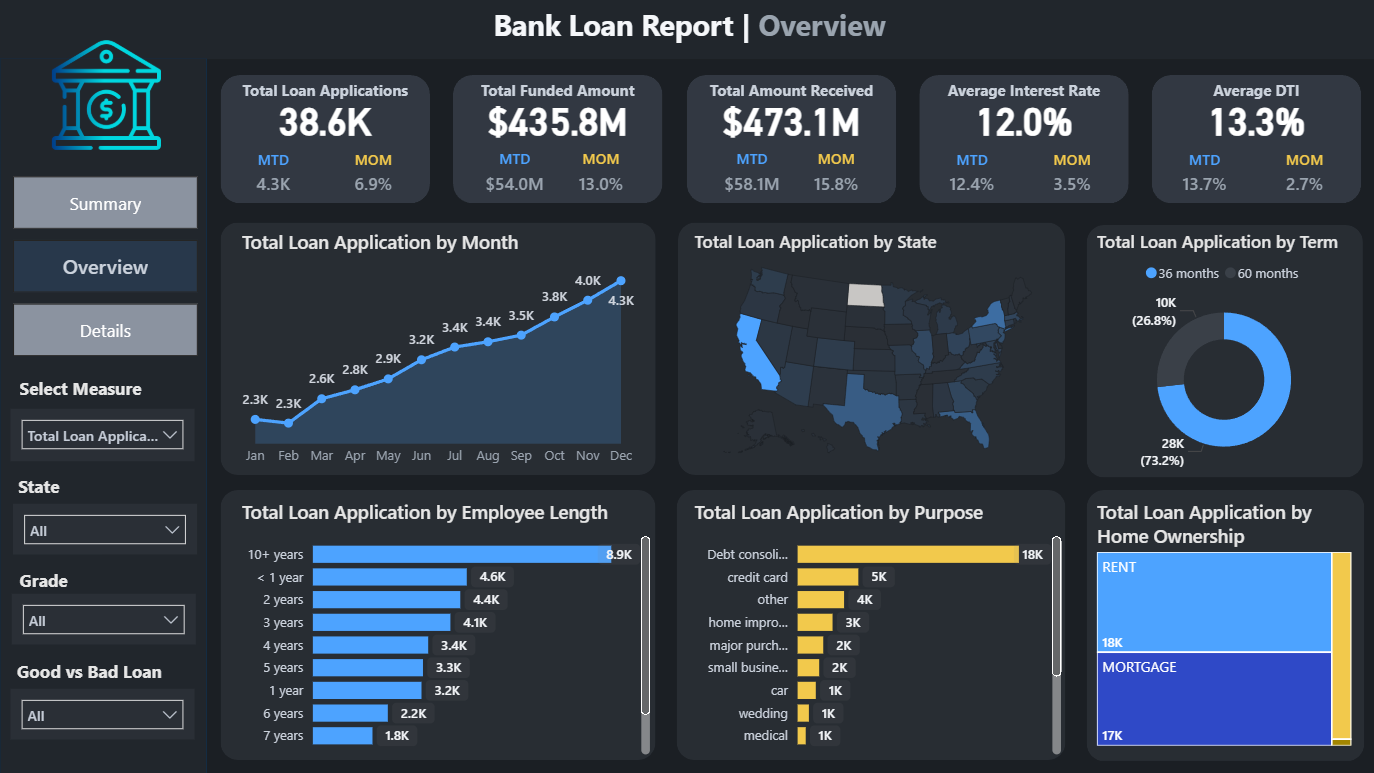

This screenshot's page, from the dashboard's own definition file:
{"tool":"powerbi","page":{"name":"Overview","canvas":[1280,720],"ordinal":1},"visuals":[{"type":"shape","box":[0,0,1280.3,55],"z":0},{"type":"shape","box":[207.2,70,194.9,119.4],"z":0,"group":"g7"},{"type":"shape","box":[423.7,70,194.9,119.4],"z":0,"group":"g9"},{"type":"shape","box":[640.1,70,194.9,119.4],"z":0,"group":"g8"},{"type":"shape","box":[856.6,70,194.9,119.4],"z":0,"group":"g11"},{"type":"shape","box":[1073.1,70,194.9,119.4],"z":0,"group":"g10"},{"type":"shape","box":[206.9,206.9,405,235],"z":0,"group":"g1"},{"type":"shape","box":[632.6,207,360,235],"z":0,"group":"g2"},{"type":"shape","box":[1012.4,209,257,234.9],"z":0,"group":"g3"},{"type":"shape","box":[631.4,455.8,361.6,251.2],"z":0,"group":"g5"},{"type":"shape","box":[1012.8,455.8,258.1,252.3],"z":0,"group":"g6"},{"type":"shape","box":[207,456.2,404.7,251.2],"z":0,"group":"g4"},{"type":"shape","box":[2.8,54.2,191.7,665.3],"z":1000},{"type":"card","fields":{"Values":["bank_loan_data.total_loan_application"]},"box":[207.2,87.8,194.9,46.7],"z":1000,"group":"g7"},{"type":"card","fields":{"Values":["bank_loan_data.total_funded_amount"]},"box":[423.7,87.8,194.9,46.7],"z":1000,"group":"g9"},{"type":"card","fields":{"Values":["bank_loan_data.total_amount_received"]},"box":[640.1,87.8,194.9,46.7],"z":1000,"group":"g8"},{"type":"card","fields":{"Values":["bank_loan_data.average_interest_rate"]},"box":[856.6,87.8,194.9,46.7],"z":1000,"group":"g11"},{"type":"card","fields":{"Values":["bank_loan_data.average_dti"]},"box":[1073.1,87.8,194.9,46.7],"z":1000,"group":"g10"},{"type":"textbox","box":[439.1,0,407.5,54.9],"z":2000},{"type":"textbox","box":[207.2,70,194.9,35.7],"z":2000,"group":"g7"},{"type":"textbox","box":[423.7,70,194.9,35.7],"z":2000,"group":"g9"},{"type":"textbox","box":[640.1,70,194.9,35.7],"z":2000,"group":"g8"},{"type":"textbox","box":[856.6,70,194.9,35.7],"z":2000,"group":"g11"},{"type":"textbox","box":[1073.1,70,194.9,35.7],"z":2000,"group":"g10"},{"type":"card","title":"MTD","fields":{"Values":["bank_loan_data.MTD_funded_ampount"]},"box":[446.7,138.6,68.6,50.8],"z":3000,"group":"g9"},{"type":"card","title":"MTD","fields":{"Values":["bank_loan_data.MTD_amount_received"]},"box":[668.3,138.6,65.9,50.8],"z":3000,"group":"g8"},{"type":"card","title":"MTD","fields":{"Values":["bank_loan_data.MTD_loan_applications"]},"box":[230.5,140,52.1,49.4],"z":3000,"group":"g7"},{"type":"card","title":"MTD","fields":{"Values":["bank_loan_data.MTD_average_interest_rate"]},"box":[879.9,140,52.1,49.4],"z":3000,"group":"g11"},{"type":"card","title":"MTD","fields":{"Values":["bank_loan_data.MTD_average_dti"]},"box":[1096.4,140,52.1,49.4],"z":3000,"group":"g10"},{"type":"card","title":"MOM","fields":{"Values":["bank_loan_data.MOM_funded_amount"]},"box":[530.4,138.6,61.7,50.8],"z":4000,"group":"g9"},{"type":"card","title":"MOM","fields":{"Values":["bank_loan_data.MOM_amount_received"]},"box":[746.5,138.6,64.5,50.8],"z":4000,"group":"g8"},{"type":"card","title":"MOM","fields":{"Values":["bank_loan_data.MOM_loan_applications"]},"box":[323.8,140,52.1,49.4],"z":4000,"group":"g7"},{"type":"card","title":"MOM","fields":{"Values":["bank_loan_data.MOM_average_interest_rate"]},"box":[973.2,140,52.1,49.4],"z":4000,"group":"g11"},{"type":"card","title":"MOM","fields":{"Values":["bank_loan_data.MOM_average_dti"]},"box":[1189.7,140,52.1,49.4],"z":4000,"group":"g10"},{"type":"group","id":"g1","title":"Group 3","box":[206.9,206.9,404.2,234.7],"z":8000},{"type":"slicer","fields":{"Values":["bank_loan_data.address_state"]},"box":[13.7,468,170.8,47.2],"z":9000},{"type":"slicer","fields":{"Values":["bank_loan_data.grade"]},"box":[13.2,552,170.8,47.2],"z":10000},{"type":"textbox","box":[15.1,523.1,84.7,36.1],"z":11000},{"type":"slicer","fields":{"Values":["bank_loan_data.good_vs_bad_loans"]},"box":[11.4,641.1,170.8,47.2],"z":12000},{"type":"textbox","box":[12.8,608.1,169.8,36],"z":13000},{"type":"textbox","box":[13.7,436.1,84.7,36.1],"z":14000},{"type":"areaChart","fields":{"Y":["bank_loan_data.Total Loan Application"],"Category":["date_table.Month"]},"box":[222.2,212.5,375,229.2],"z":15000},{"type":"slicer","fields":{"Values":["Parameter.Parameter"]},"box":[11.6,380.2,170.9,48.8],"z":16000},{"type":"textbox","box":[14.8,345.5,143.1,36.1],"z":17000},{"type":"group","id":"g2","title":"Group 3","box":[632.6,207,359.3,234.9],"z":18000},{"type":"shapeMap","fields":{"Value":["bank_loan_data.Total Loan Application"],"Category":["bank_loan_data.address_state"]},"box":[643,212.8,351.2,223.3],"z":19000},{"type":"group","id":"g3","title":"Group 3","box":[1012.4,209,257,234.9],"z":20000},{"type":"donutChart","fields":{"Y":["bank_loan_data.Total Loan Application"],"Category":["bank_loan_data.term"]},"box":[1017.4,212.8,246.5,231.4],"z":21000},{"type":"group","id":"g4","title":"Group 3","box":[207,456.2,404.7,251.2],"z":22000},{"type":"barChart","fields":{"Y":["bank_loan_data.Total Loan Application"],"Category":["bank_loan_data.emp_length"]},"box":[222.1,464,389.5,243],"z":23000},{"type":"group","id":"g5","title":"Group 3","box":[631.4,455.8,361.6,251.2],"z":24000},{"type":"group","id":"g6","title":"Group 3","box":[1012.8,455.8,258.1,252.3],"z":25000},{"type":"barChart","fields":{"Y":["bank_loan_data.Total Loan Application"],"Category":["bank_loan_data.purpose"]},"box":[643,464,351,243],"z":26000},{"type":"treemap","fields":{"Values":["bank_loan_data.Total Loan Application"],"Group":["bank_loan_data.home_ownership"]},"box":[1017.4,464,246.5,234.9],"z":27000},{"type":"image","box":[37.2,25.6,126.7,125.6],"z":29000},{"type":"pageNavigator","box":[14,164,172.1,167.4],"z":29001},{"type":"group","id":"g7","title":"Group 1","box":[207.2,70,194.9,119.4],"z":29002},{"type":"group","id":"g8","title":"Group 1","box":[640.1,70,194.9,119.4],"z":29003},{"type":"group","id":"g9","title":"Group 1","box":[423.7,70,194.9,119.4],"z":29004},{"type":"group","id":"g10","title":"Group 1","box":[1073.1,70,194.9,119.4],"z":29005},{"type":"group","id":"g11","title":"Group 1","box":[856.6,70,194.9,119.4],"z":29006}]}

Visuals, with their boxes in screenshot pixels (x1, y1, x2, y2), scaled from the page's 1280x720 canvas onto the 1374x773 screenshot:
shape: <region>0, 0, 1373, 59</region>
shape: <region>222, 75, 432, 203</region>
shape: <region>455, 75, 664, 203</region>
shape: <region>687, 75, 896, 203</region>
shape: <region>920, 75, 1129, 203</region>
shape: <region>1152, 75, 1361, 203</region>
shape: <region>222, 222, 657, 474</region>
shape: <region>679, 222, 1065, 475</region>
shape: <region>1087, 224, 1363, 477</region>
shape: <region>678, 489, 1066, 759</region>
shape: <region>1087, 489, 1364, 760</region>
shape: <region>222, 490, 657, 759</region>
shape: <region>3, 58, 209, 772</region>
card - bank_loan_data.total_loan_application: <region>222, 94, 432, 144</region>
card - bank_loan_data.total_funded_amount: <region>455, 94, 664, 144</region>
card - bank_loan_data.total_amount_received: <region>687, 94, 896, 144</region>
card - bank_loan_data.average_interest_rate: <region>920, 94, 1129, 144</region>
card - bank_loan_data.average_dti: <region>1152, 94, 1361, 144</region>
textbox: <region>471, 0, 909, 59</region>
textbox: <region>222, 75, 432, 113</region>
textbox: <region>455, 75, 664, 113</region>
textbox: <region>687, 75, 896, 113</region>
textbox: <region>920, 75, 1129, 113</region>
textbox: <region>1152, 75, 1361, 113</region>
"MTD" card: <region>480, 149, 553, 203</region>
"MTD" card: <region>717, 149, 788, 203</region>
"MTD" card: <region>247, 150, 303, 203</region>
"MTD" card: <region>945, 150, 1000, 203</region>
"MTD" card: <region>1177, 150, 1233, 203</region>
"MOM" card: <region>569, 149, 636, 203</region>
"MOM" card: <region>801, 149, 871, 203</region>
"MOM" card: <region>348, 150, 404, 203</region>
"MOM" card: <region>1045, 150, 1101, 203</region>
"MOM" card: <region>1277, 150, 1333, 203</region>
"Group 3" group: <region>222, 222, 656, 474</region>
slicer - bank_loan_data.address_state: <region>15, 502, 198, 553</region>
slicer - bank_loan_data.grade: <region>14, 593, 198, 643</region>
textbox: <region>16, 562, 107, 600</region>
slicer - bank_loan_data.good_vs_bad_loans: <region>12, 688, 196, 739</region>
textbox: <region>14, 653, 196, 692</region>
textbox: <region>15, 468, 106, 507</region>
areaChart - bank_loan_data.Total Loan Application x date_table.Month: <region>239, 228, 641, 474</region>
slicer - Parameter.Parameter: <region>12, 408, 196, 461</region>
textbox: <region>16, 371, 169, 410</region>
"Group 3" group: <region>679, 222, 1065, 474</region>
shapeMap - bank_loan_data.Total Loan Application x bank_loan_data.address_state: <region>690, 228, 1067, 468</region>
"Group 3" group: <region>1087, 224, 1363, 477</region>
donutChart - bank_loan_data.Total Loan Application x bank_loan_data.term: <region>1092, 228, 1357, 477</region>
"Group 3" group: <region>222, 490, 657, 759</region>
barChart - bank_loan_data.Total Loan Application x bank_loan_data.emp_length: <region>238, 498, 657, 759</region>
"Group 3" group: <region>678, 489, 1066, 759</region>
"Group 3" group: <region>1087, 489, 1364, 760</region>
barChart - bank_loan_data.Total Loan Application x bank_loan_data.purpose: <region>690, 498, 1067, 759</region>
treemap - bank_loan_data.Total Loan Application x bank_loan_data.home_ownership: <region>1092, 498, 1357, 750</region>
image: <region>40, 27, 176, 162</region>
pageNavigator: <region>15, 176, 200, 356</region>
"Group 1" group: <region>222, 75, 432, 203</region>
"Group 1" group: <region>687, 75, 896, 203</region>
"Group 1" group: <region>455, 75, 664, 203</region>
"Group 1" group: <region>1152, 75, 1361, 203</region>
"Group 1" group: <region>920, 75, 1129, 203</region>
